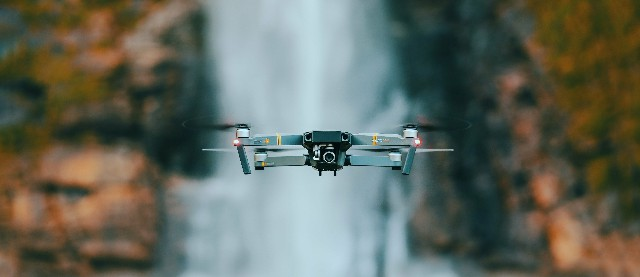maybay_khongnguoilai: (196, 110, 451, 185)
